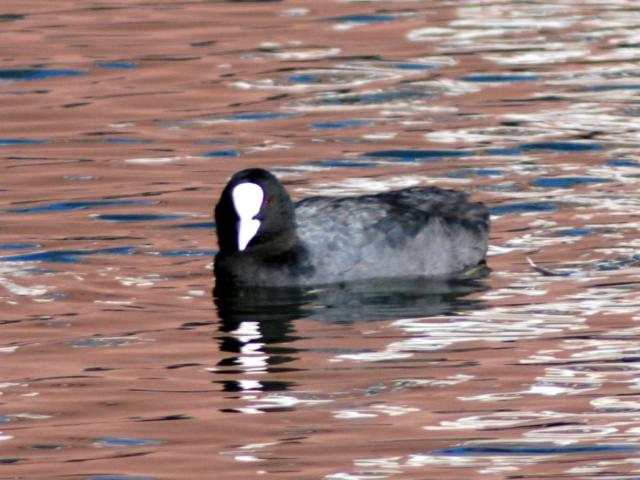Bird: (210, 165, 491, 288)
